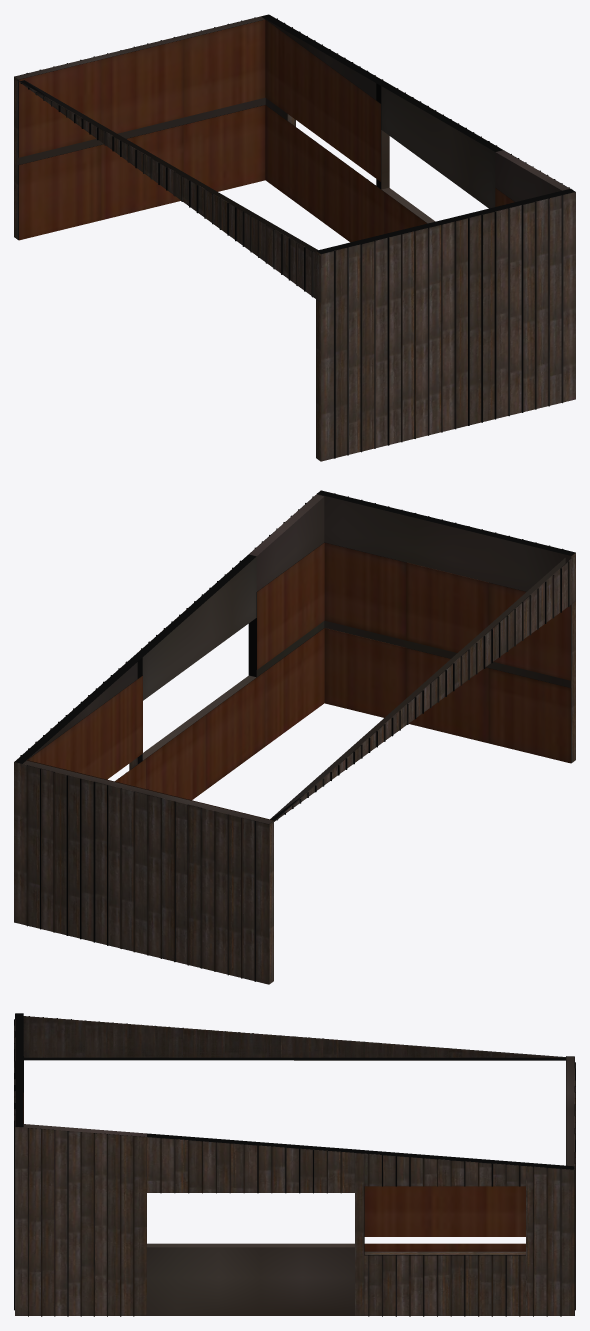
Rendered from arrival_shell.glb.
3 views of the same model, one above another, from view 1: azimuth 30°, elevation 25°; view 2: azimuth 150°, elevation 25°; view 3: azimuth 270°, elevation 25° (orthographic). The views are drawn at different scales.
Visible parts, largest first — view 1: arrival_shell; view 2: arrival_shell; view 3: arrival_shell.
Part boxes in pixels (left/top/right/bottom): arrival_shell: left=14, top=14, right=575, bottom=461; arrival_shell: left=14, top=490, right=575, bottom=984; arrival_shell: left=14, top=1013, right=575, bottom=1316.
Bounding box in the file's own units: 11.71 × 9.03 × 24.31.
Materials: 1 (1 with a texture image).
